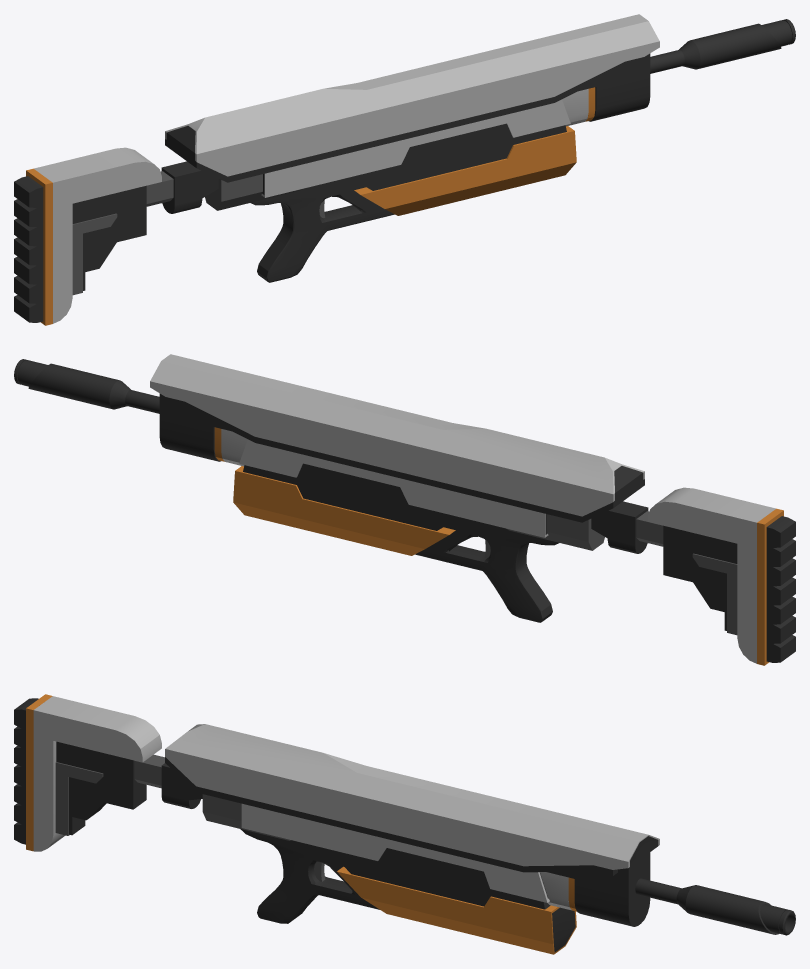
Rendered from Sniper_2.glb.
3 renders of one model, top to bottom at view 1: azimuth 30°, elevation 25°; view 2: azimuth 150°, elevation 25°; view 3: azimuth 330°, elevation 25°, orthographic.
Parts seen in each view (by area): view 1: Sniper_2; view 2: Sniper_2; view 3: Sniper_2.
Part boxes in pixels (x1,y1,x2,y2): Sniper_2: [14, 14, 795, 325]; Sniper_2: [14, 354, 795, 665]; Sniper_2: [14, 694, 795, 954].
Bounding box in the file's own units: 2.51 × 0.5519 × 0.1785.
